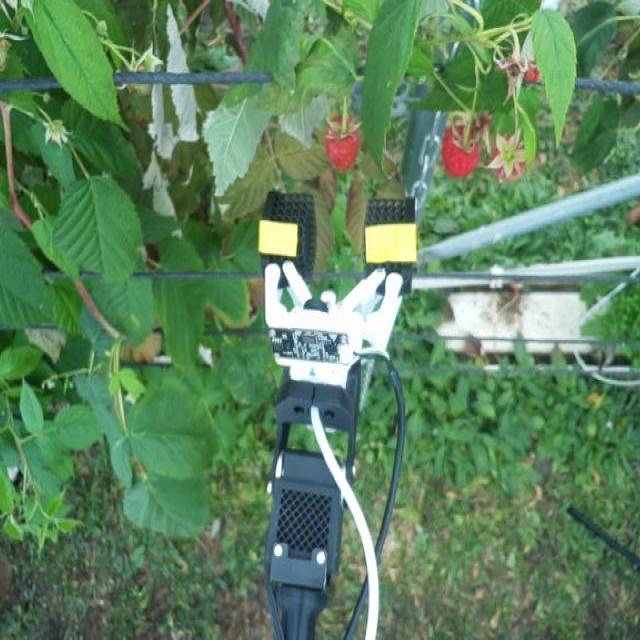Riped berries: (322, 111, 362, 173), (491, 125, 530, 180), (439, 122, 480, 171)
